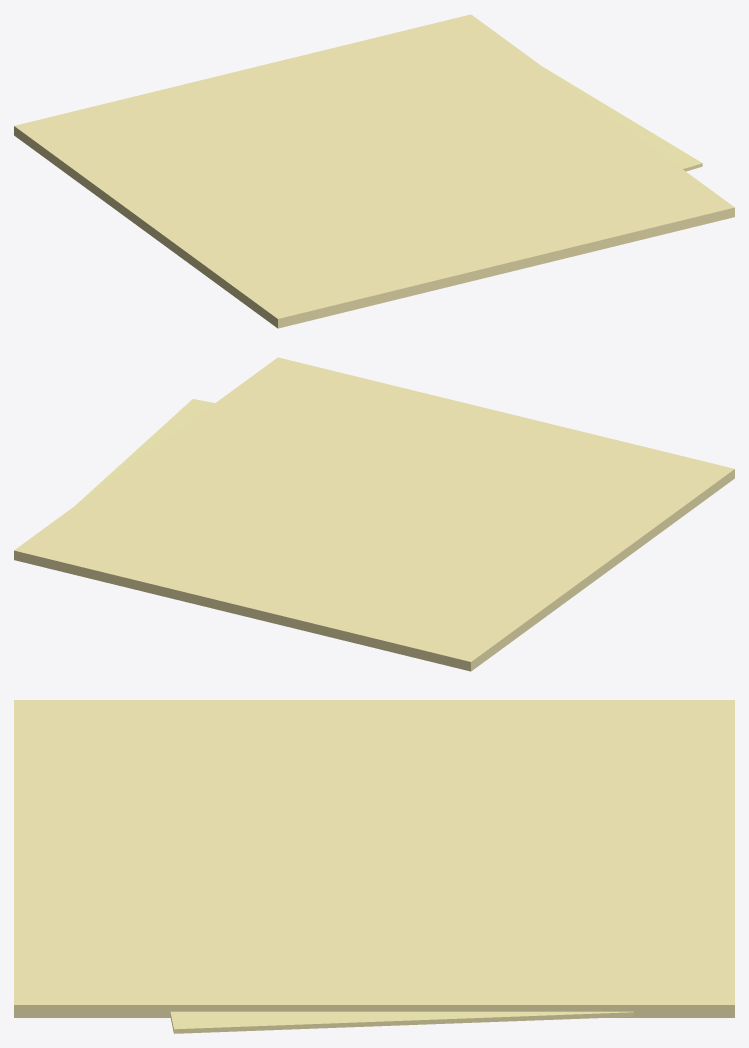
The model's file is road_workzone_detour_staging_apron.glb.
The picture shows the model from 3 angles, top to bottom: view 1: azimuth 30°, elevation 25°; view 2: azimuth 150°, elevation 25°; view 3: azimuth 270°, elevation 25°; orthographic projection. The views are drawn at different scales.
Parts seen in each view (by area): view 1: base, storage_bay; view 2: base, storage_bay; view 3: base, storage_bay.
Boxes of the visible parts, box(x1,y1,x2,y2) form: base: box(14, 14, 734, 328); storage_bay: box(543, 67, 702, 171); base: box(14, 357, 734, 671); storage_bay: box(75, 399, 214, 505); base: box(14, 700, 734, 1017); storage_bay: box(170, 1011, 633, 1033).
Size of the model in its own units: 4.23 by 0.08 by 4.
